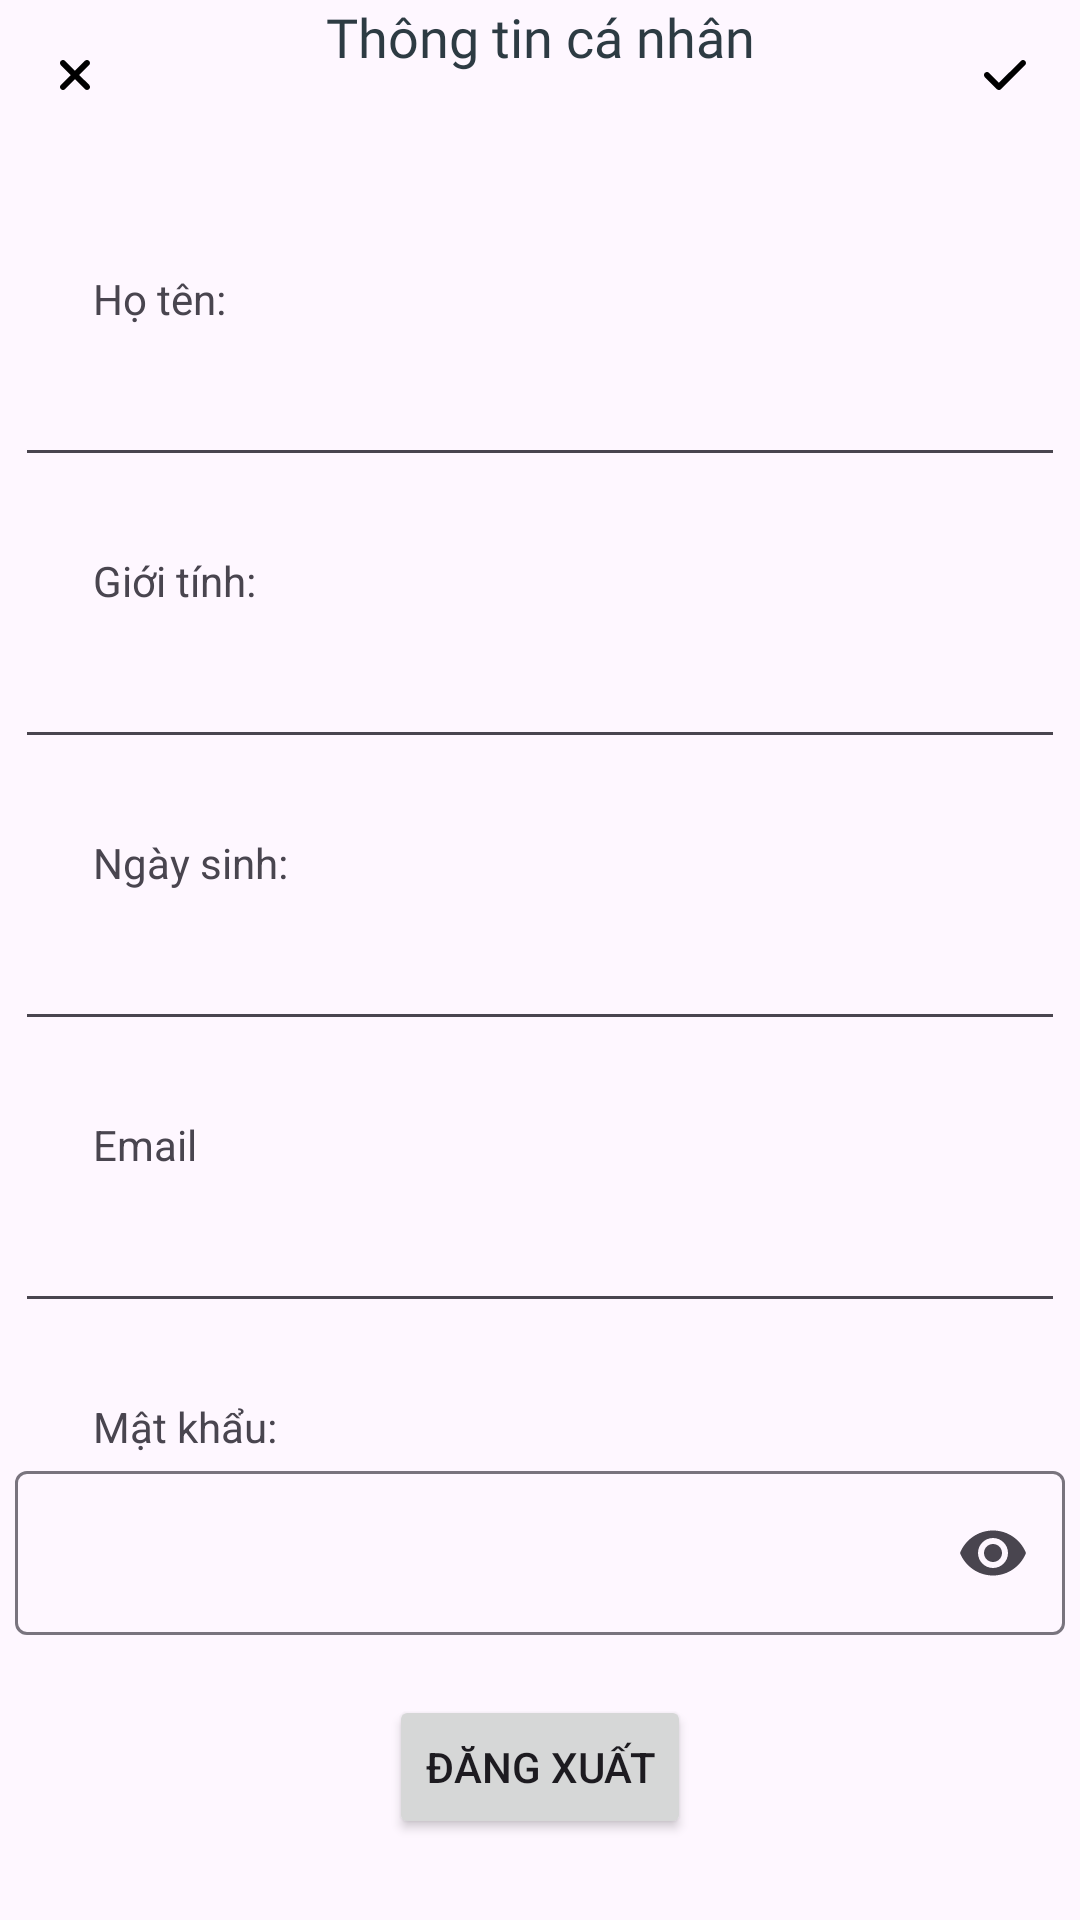

Screen size 1080*1920. Icon name, then its center in pixels as point (x, y):
check: point (1005, 75)
xmark: point (75, 75)
